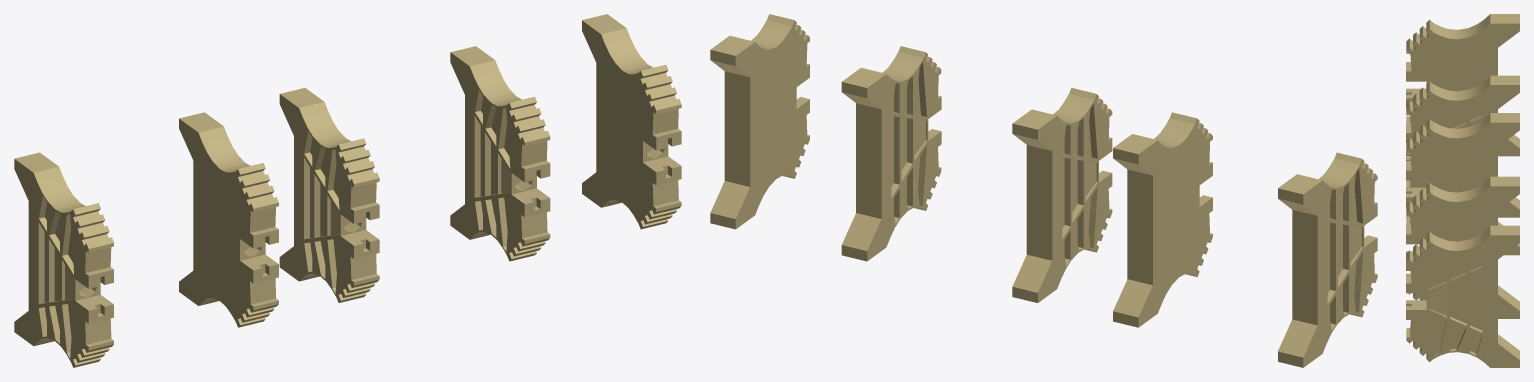
Rendered from SpacerBot.FBX.
3 views of the same model, side by side, from view 1: azimuth 30°, elevation 25°; view 2: azimuth 150°, elevation 25°; view 3: azimuth 270°, elevation 25° (orthographic). The views are drawn at different scales.
Parts seen in each view (by area): view 1: SpacerBot; view 2: SpacerBot; view 3: SpacerBot.
Part boxes in pixels (x1,y1,x2,y2): SpacerBot: (14,14,681,367); SpacerBot: (710,14,1377,367); SpacerBot: (1406,14,1519,367).
Size of the model in its own units: 21.44 by 5.99 by 4.66.
